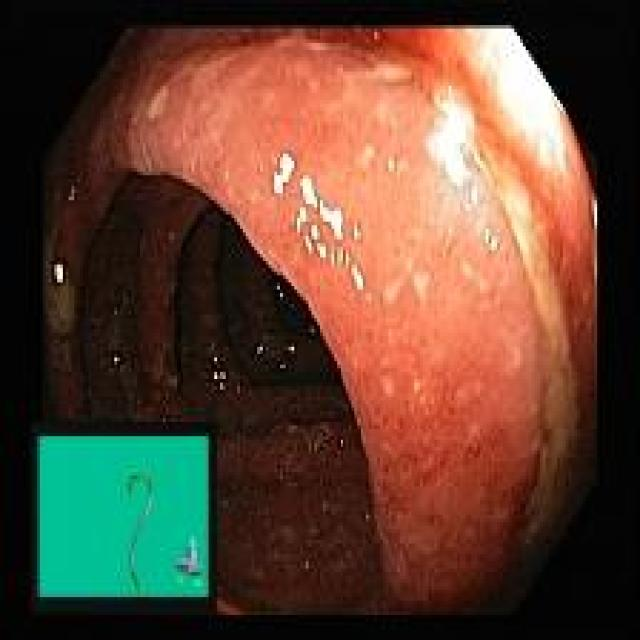ulcerative-colitis: (46, 28, 598, 613)
